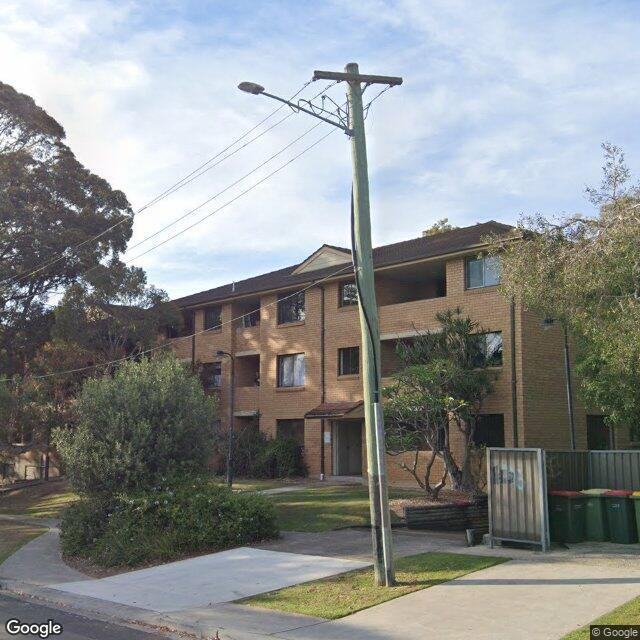concrete-pole: (310, 70, 402, 86)
steel-pole: (564, 325, 575, 451), (227, 359, 234, 488)
streetlight: (238, 81, 354, 135), (216, 350, 234, 360), (545, 318, 566, 325)
timber-pole: (346, 62, 393, 583)
